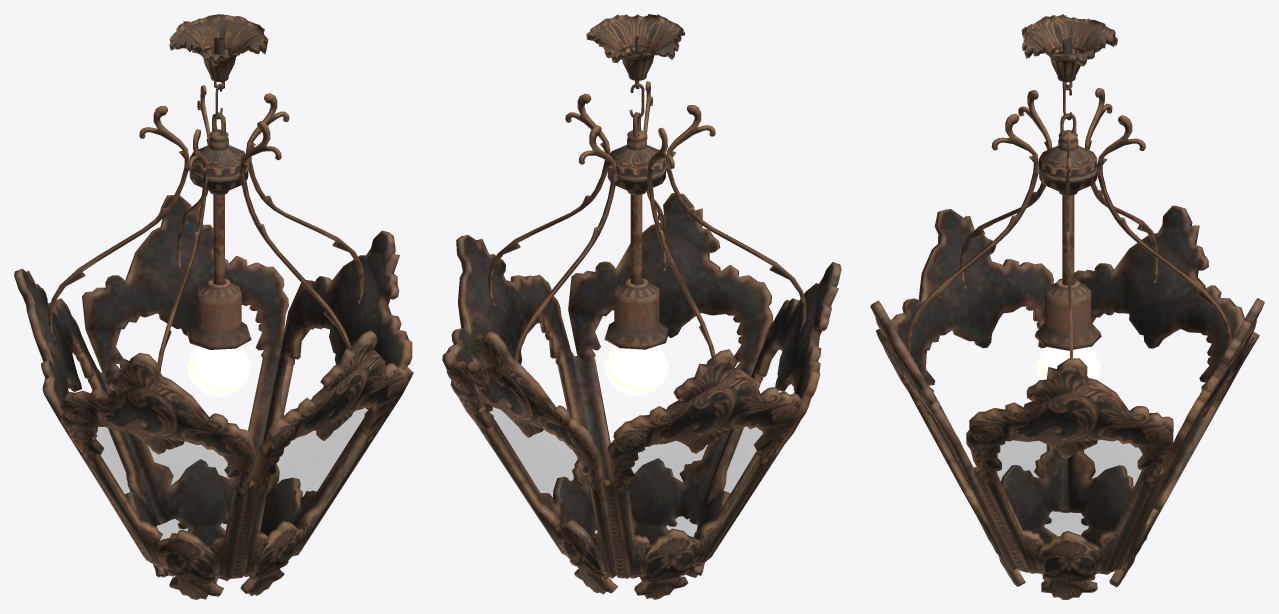
The model's file is lantern.glb.
3 views of the same model, side by side, from view 1: azimuth 30°, elevation 25°; view 2: azimuth 150°, elevation 25°; view 3: azimuth 270°, elevation 25° (orthographic).
Parts seen in each view (by area): view 1: lantern_chandelier_01; view 2: lantern_chandelier_01; view 3: lantern_chandelier_01.
Boxes of the visible parts, x1,y1,x2,y2 form: lantern_chandelier_01: [14, 14, 413, 599]; lantern_chandelier_01: [442, 14, 841, 599]; lantern_chandelier_01: [870, 14, 1264, 599].
Bounding box in the file's own units: 0.5792 × 0.8776 × 0.5746.
3 materials, 2 textured.
